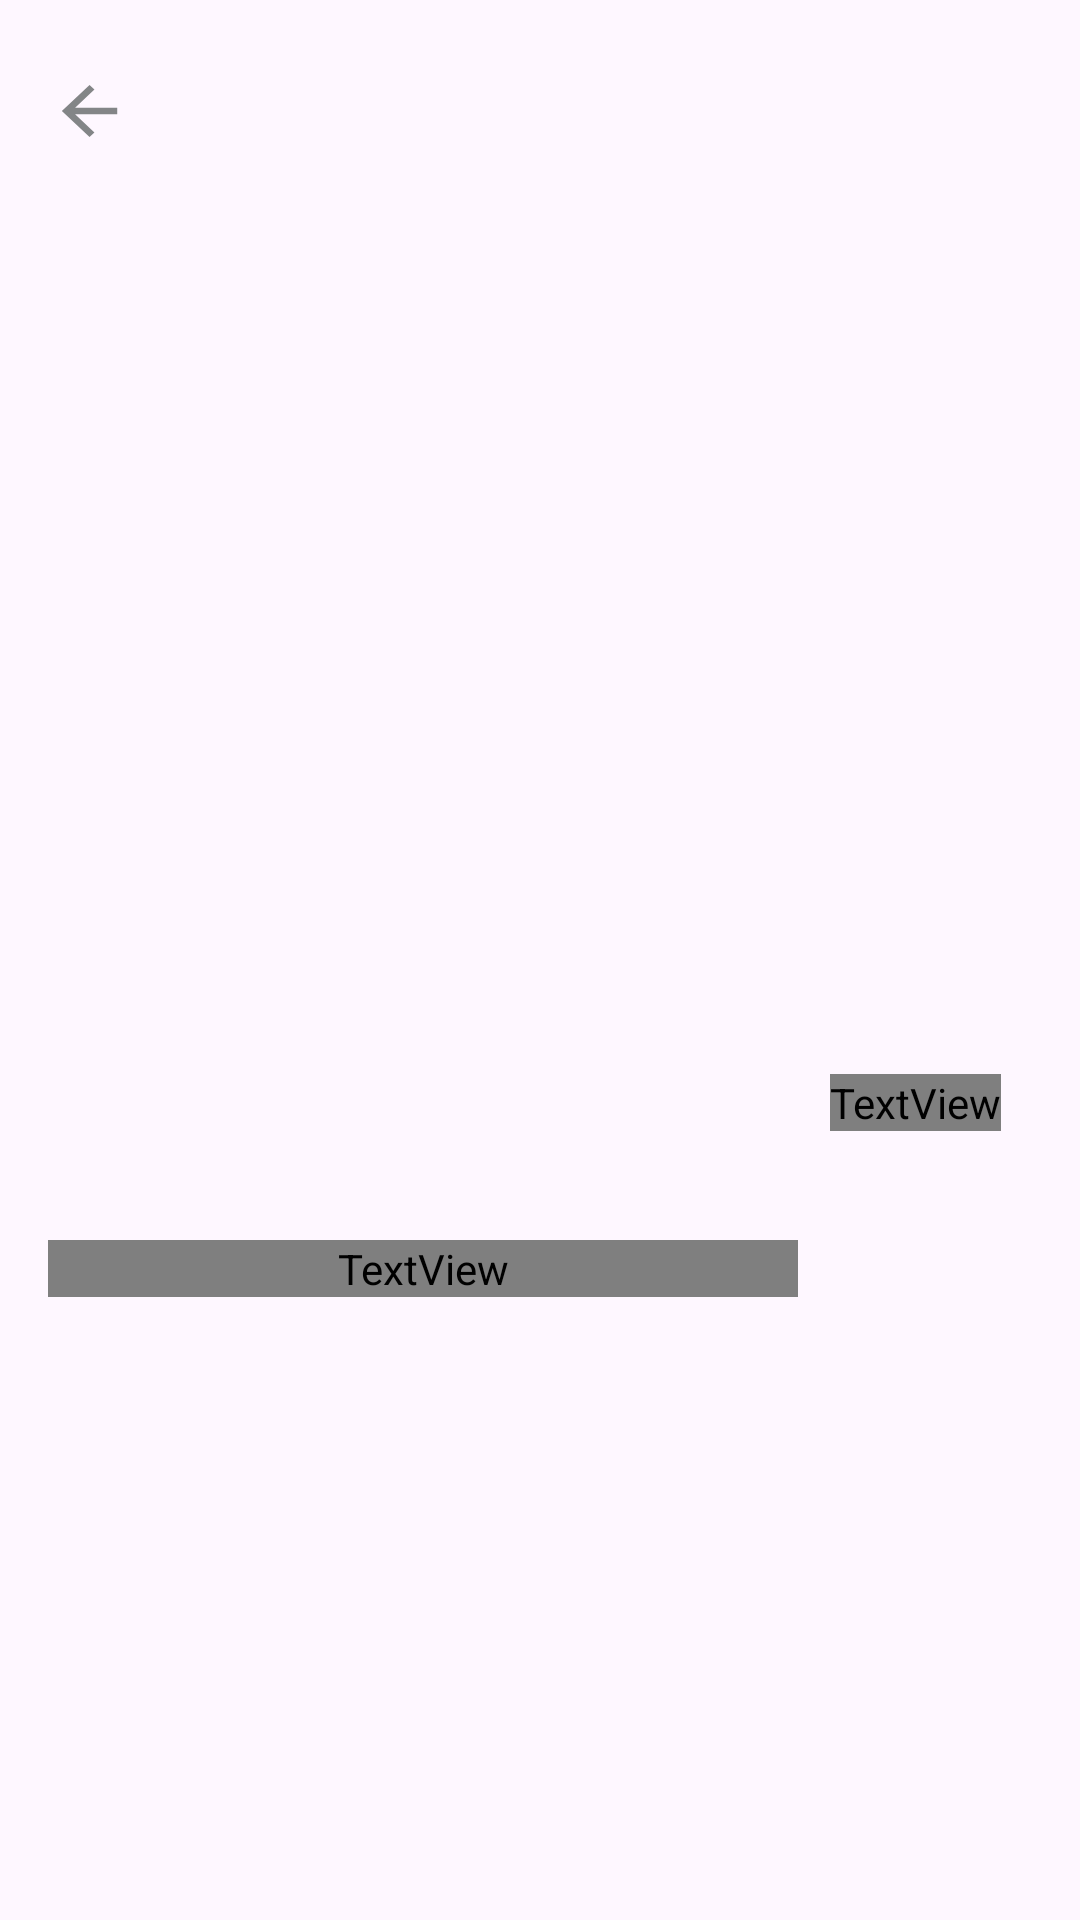

Screen size 1080px x 1920px. Icon name, then its center in pixels as [x,y]:
go back: [90,111]
